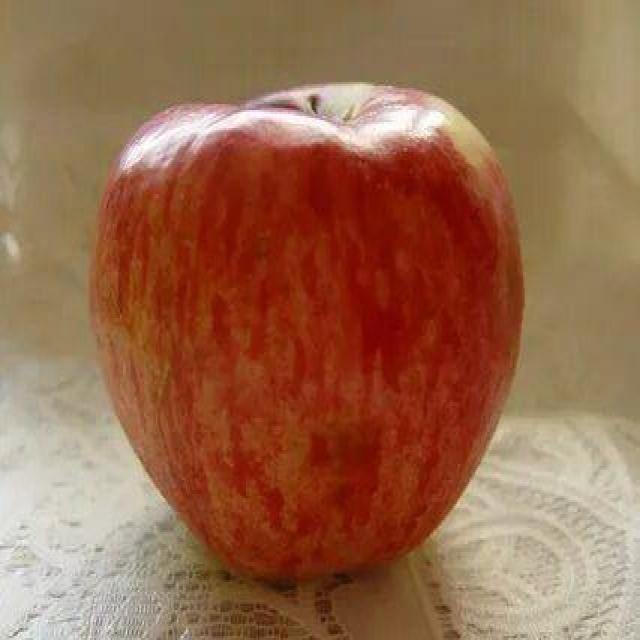Rotten Apple: (88, 83, 525, 585)
